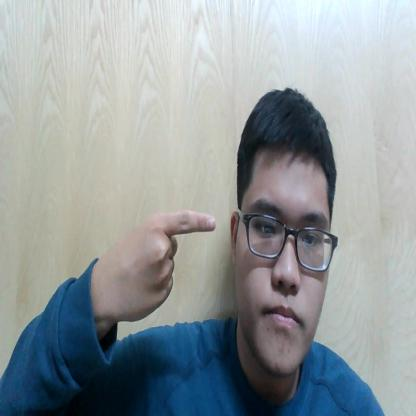left: (103, 204, 219, 322)
